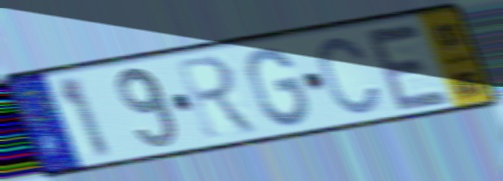1: (57, 73, 115, 162)
9: (114, 65, 180, 151)
C: (316, 34, 383, 117)
E: (360, 21, 456, 114)
G: (244, 44, 311, 129)
R: (170, 51, 264, 141)
